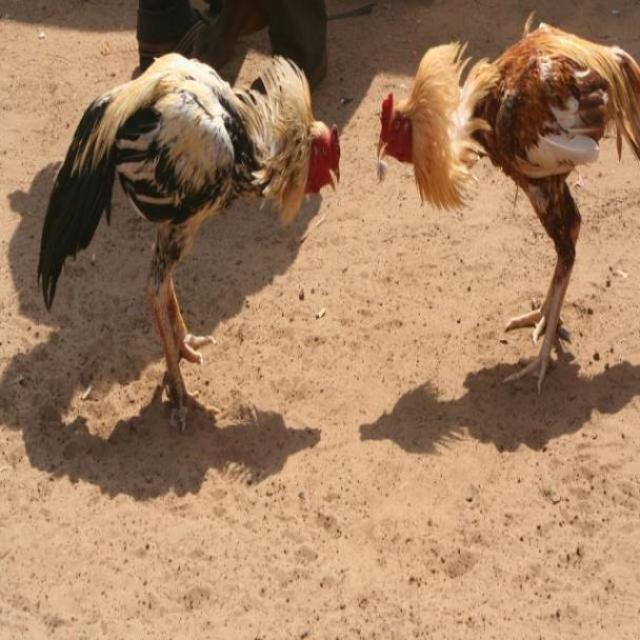Chicken: (33, 47, 346, 440), (368, 0, 635, 342)
